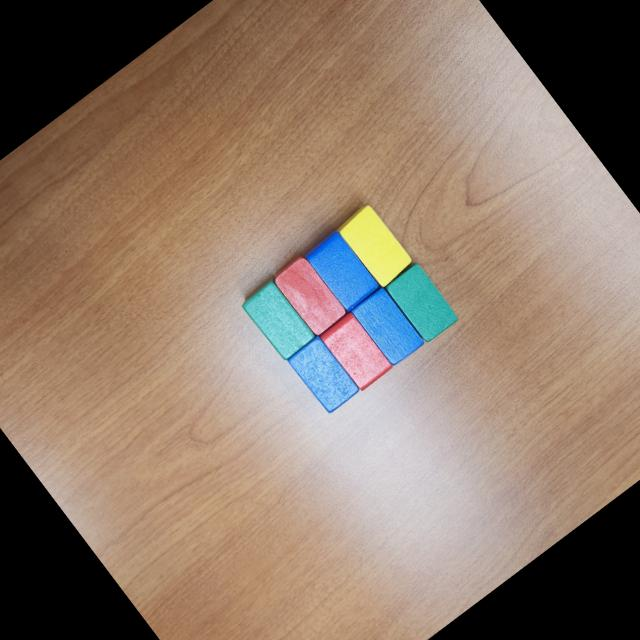blue: (303, 228, 382, 314), (350, 286, 428, 368), (286, 334, 364, 416)
green: (238, 274, 320, 362), (382, 259, 462, 345)
red: (270, 251, 350, 339), (320, 313, 393, 391)
yellow: (333, 200, 416, 290)
